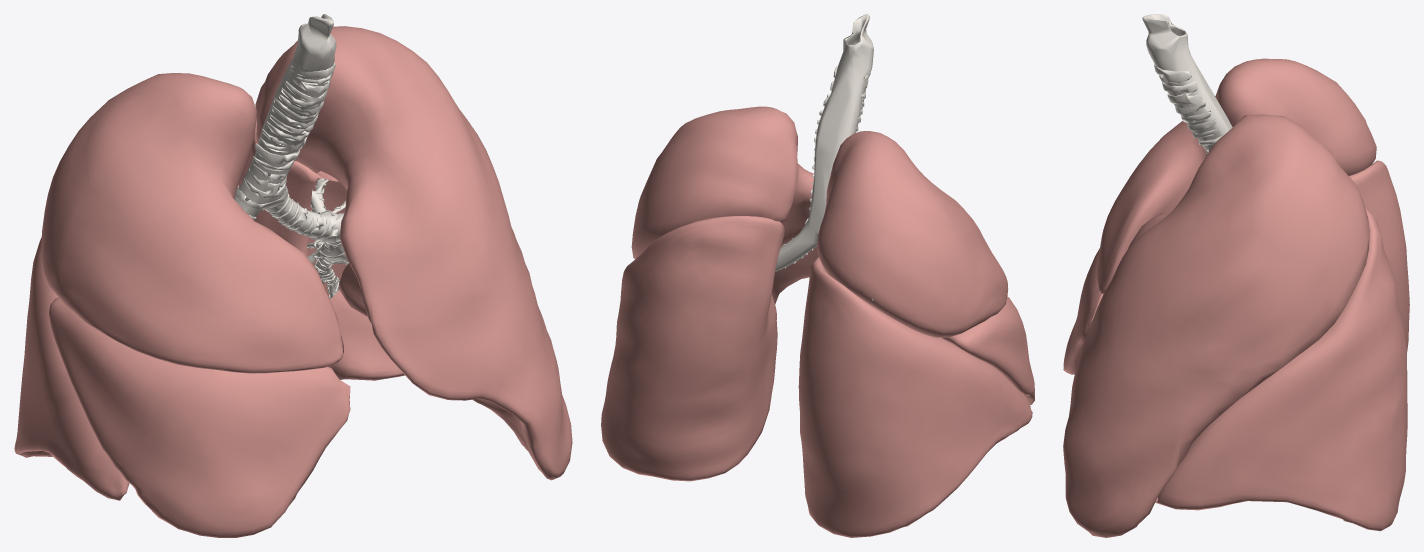
File: lungs.mo.glb
The picture shows the model from 3 angles, left to right: view 1: azimuth 30°, elevation 25°; view 2: azimuth 150°, elevation 25°; view 3: azimuth 270°, elevation 25°; orthographic projection. The views are drawn at different scales.
Parts seen in each view (by area): view 1: Lung_right, Lung_left, Bronchial_tree; view 2: Lung_right, Lung_left, Bronchial_tree; view 3: Lung_left, Lung_right, Bronchial_tree.
Part boxes in pixels (x1,y1,x2,y2): Lung_right: [14, 73, 350, 537]; Lung_left: [238, 26, 572, 480]; Bronchial_tree: [234, 14, 348, 299]; Lung_right: [798, 131, 1034, 537]; Lung_left: [601, 106, 818, 481]; Bronchial_tree: [775, 14, 873, 300]; Lung_left: [1063, 114, 1407, 537]; Lung_right: [1063, 58, 1409, 374]; Bronchial_tree: [1142, 14, 1232, 153].
Size of the model in its own units: 1.89 by 2 by 1.38.
